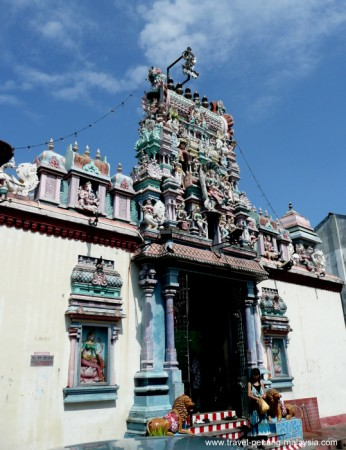Hindu Temple: (95, 64, 242, 261)
